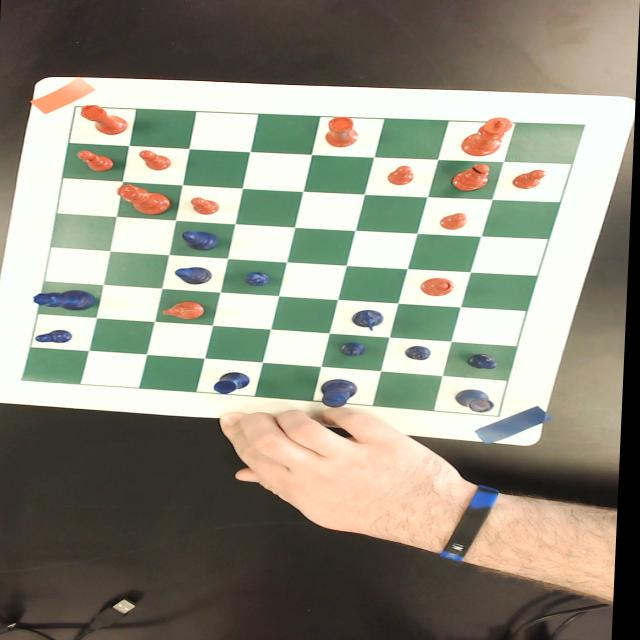B: (182, 231, 222, 251), (176, 266, 215, 284)
K: (322, 378, 361, 408)
N: (350, 309, 389, 331)
P: (38, 329, 75, 343), (468, 354, 500, 369), (245, 272, 275, 286), (406, 346, 435, 360), (342, 342, 370, 356)
Q: (34, 290, 97, 310)
R: (456, 389, 498, 414), (214, 371, 255, 395)
b: (451, 164, 494, 192), (421, 277, 457, 297)
k: (460, 118, 513, 156)
n: (163, 301, 208, 320)
p: (76, 150, 115, 172), (512, 169, 548, 189), (138, 150, 172, 170), (190, 197, 221, 216), (387, 166, 415, 186), (439, 212, 470, 230)
q: (116, 184, 174, 214)
r: (79, 105, 128, 135), (324, 117, 360, 147)
